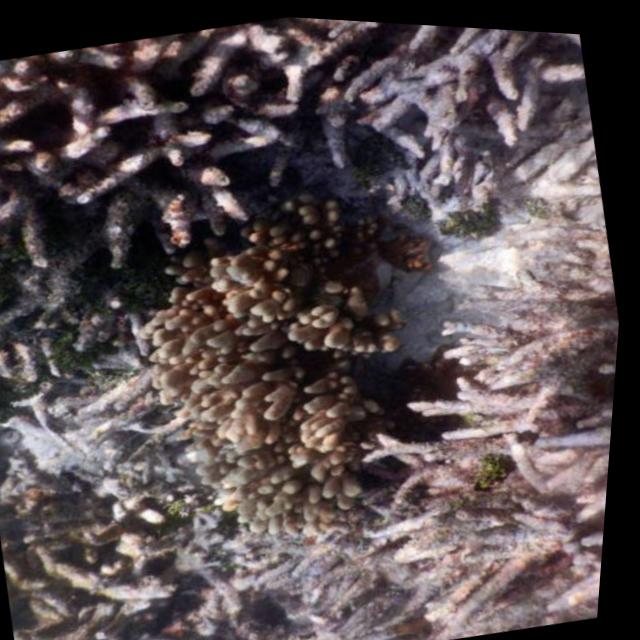Dead Coral: (0, 0, 611, 314), (331, 195, 630, 640), (11, 528, 309, 640), (0, 342, 192, 505)
